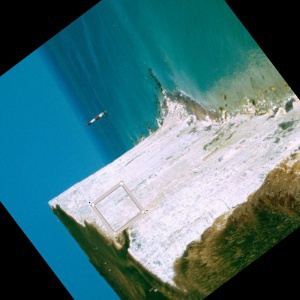square: (88, 180, 148, 237)
